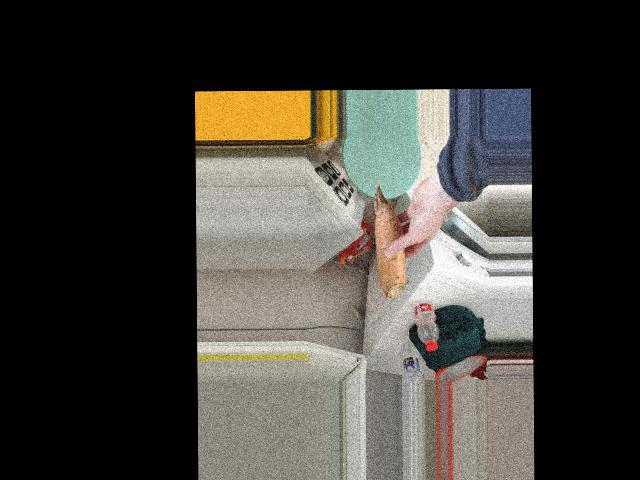sweet_potato: (378, 192, 410, 303)
